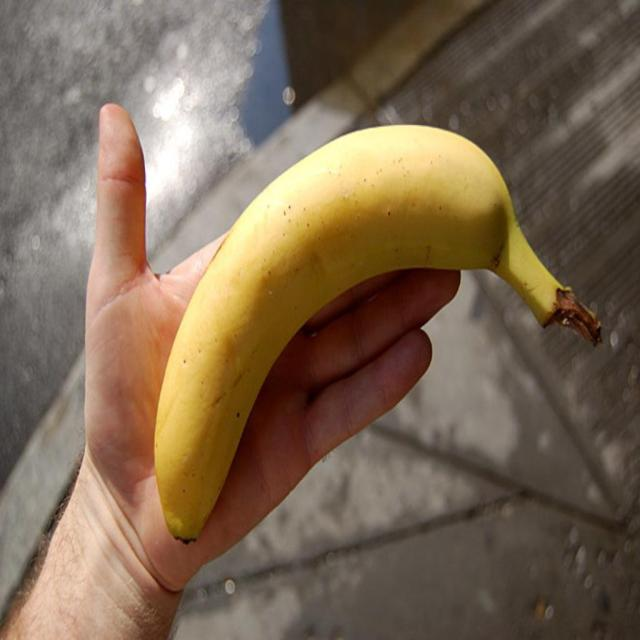banana: (152, 125, 564, 545)
